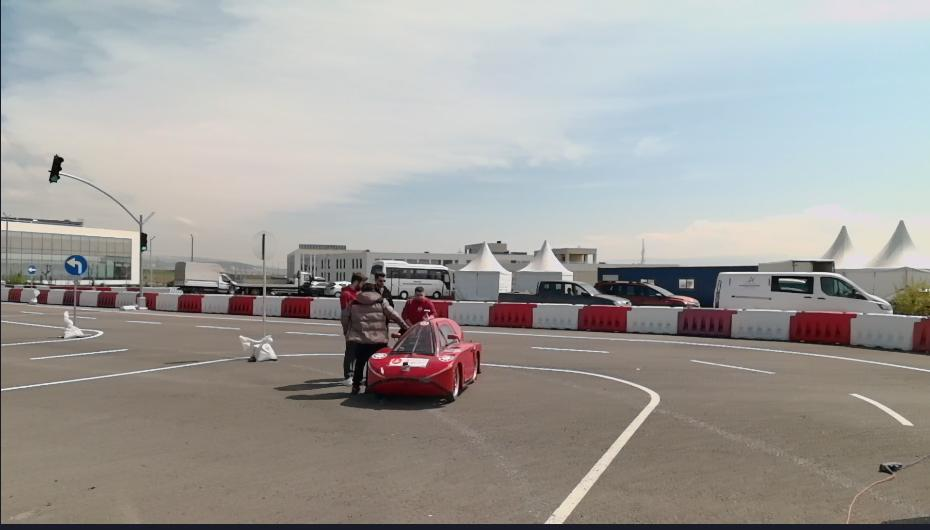nesne: (473, 329, 930, 527), (473, 337, 929, 529), (472, 329, 930, 437), (0, 300, 341, 390), (488, 363, 660, 525), (469, 330, 883, 360), (363, 319, 485, 399), (0, 355, 252, 391), (714, 271, 893, 315), (348, 282, 409, 394), (61, 171, 156, 231), (498, 279, 632, 308), (373, 258, 449, 298), (340, 271, 367, 377), (598, 282, 699, 310), (849, 314, 918, 351), (146, 293, 256, 315), (2, 324, 103, 346), (729, 307, 794, 341), (792, 309, 849, 346), (852, 390, 914, 424), (175, 261, 236, 294), (679, 308, 734, 336), (690, 357, 778, 374), (30, 344, 129, 359), (626, 306, 680, 333), (532, 305, 582, 330), (581, 307, 628, 333), (402, 289, 437, 323), (450, 301, 492, 329), (489, 302, 531, 329), (238, 332, 279, 359), (271, 272, 317, 296), (258, 230, 268, 339), (77, 290, 139, 307), (861, 359, 927, 371), (532, 344, 611, 354), (372, 273, 396, 304), (312, 276, 349, 296), (281, 297, 313, 318), (314, 297, 339, 322), (224, 295, 253, 315), (61, 253, 87, 275), (63, 310, 84, 337), (285, 328, 340, 338), (914, 320, 930, 352), (178, 293, 202, 313), (49, 153, 64, 183), (202, 294, 227, 312), (236, 278, 264, 294), (156, 292, 180, 310), (429, 301, 449, 320), (78, 290, 97, 309), (97, 291, 117, 309), (269, 296, 283, 319), (20, 287, 40, 303), (198, 323, 243, 330), (139, 252, 146, 295), (283, 351, 342, 356), (46, 288, 64, 304), (72, 275, 78, 322), (119, 291, 136, 306), (36, 287, 48, 305), (145, 292, 157, 310), (130, 318, 164, 324), (138, 230, 147, 251), (8, 289, 21, 303), (0, 286, 10, 301), (61, 289, 71, 304), (25, 263, 37, 274), (122, 305, 135, 312), (139, 298, 147, 309), (28, 273, 30, 303)
